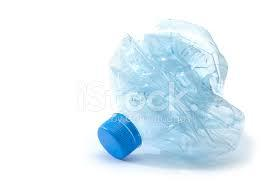Plastic: (96, 11, 250, 166)
